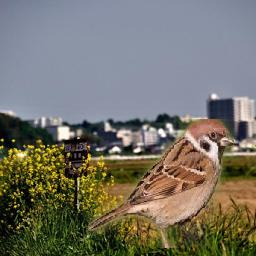Sparrow: (88, 120, 234, 249)
